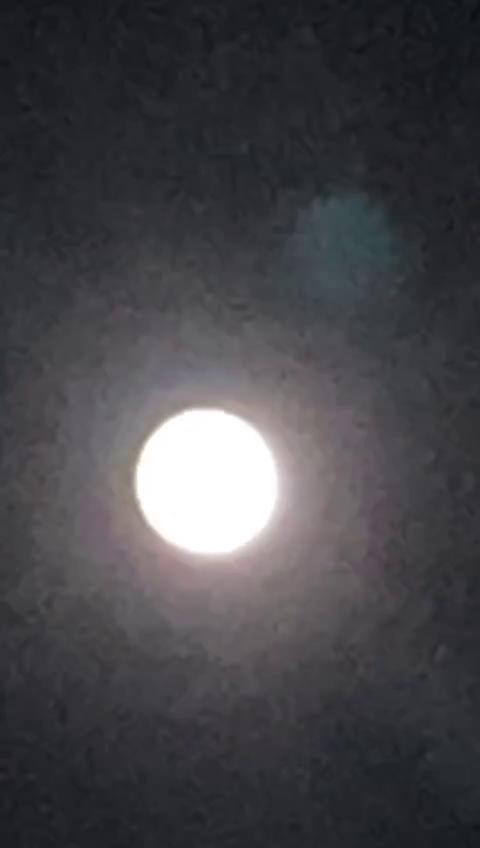moon: (125, 376, 292, 566)
